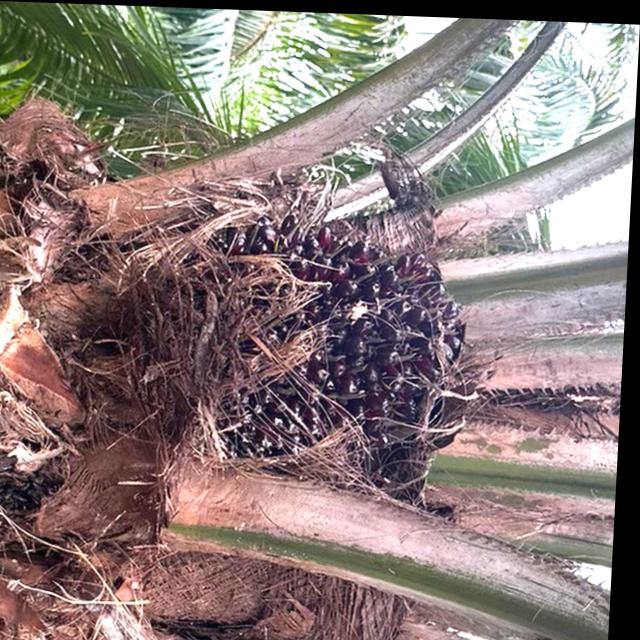ripe: (175, 188, 501, 493)
